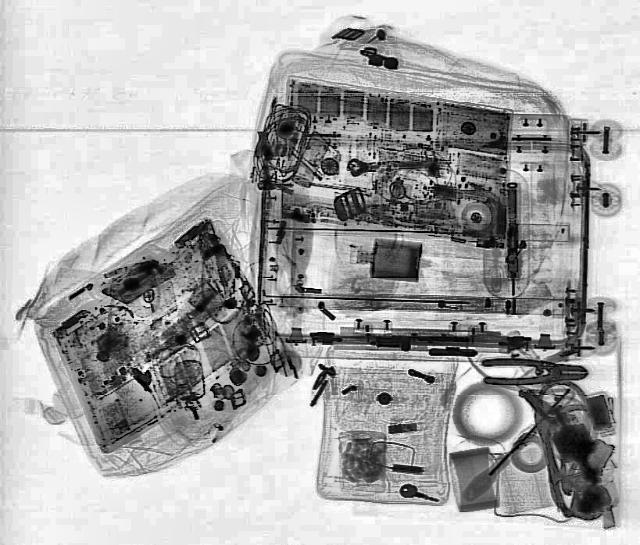Pliers: (480, 358, 588, 384)
